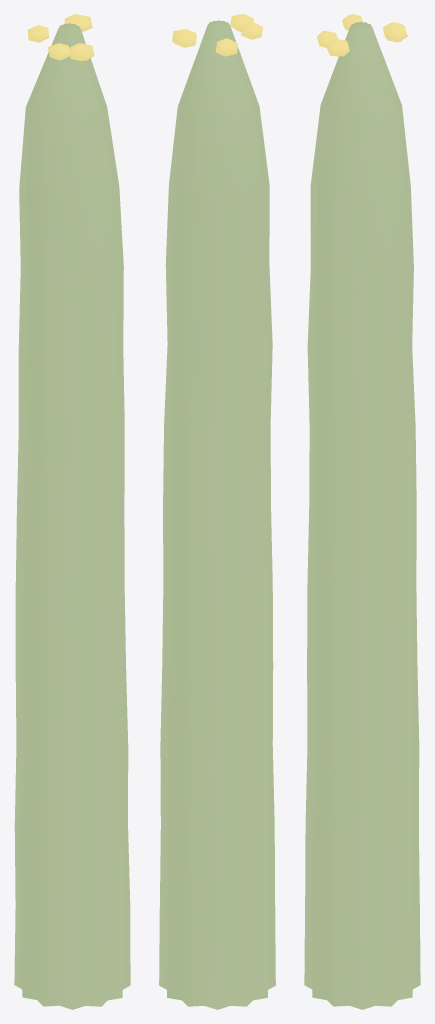
Rendered from Blender_Saguaro_3.glb.
3 renders of one model, left to right at view 1: azimuth 30°, elevation 25°; view 2: azimuth 150°, elevation 25°; view 3: azimuth 330°, elevation 25°, orthographic.
Parts seen in each view (by area): view 1: Blender_Saguaro_3; view 2: Blender_Saguaro_3; view 3: Blender_Saguaro_3.
Part boxes in pixels (left/top/right/bottom): Blender_Saguaro_3: left=14, top=14, right=130, bottom=1009; Blender_Saguaro_3: left=159, top=14, right=275, bottom=1009; Blender_Saguaro_3: left=304, top=14, right=420, bottom=1009.
Size of the model in its own units: 0.88 by 8.01 by 0.88.
